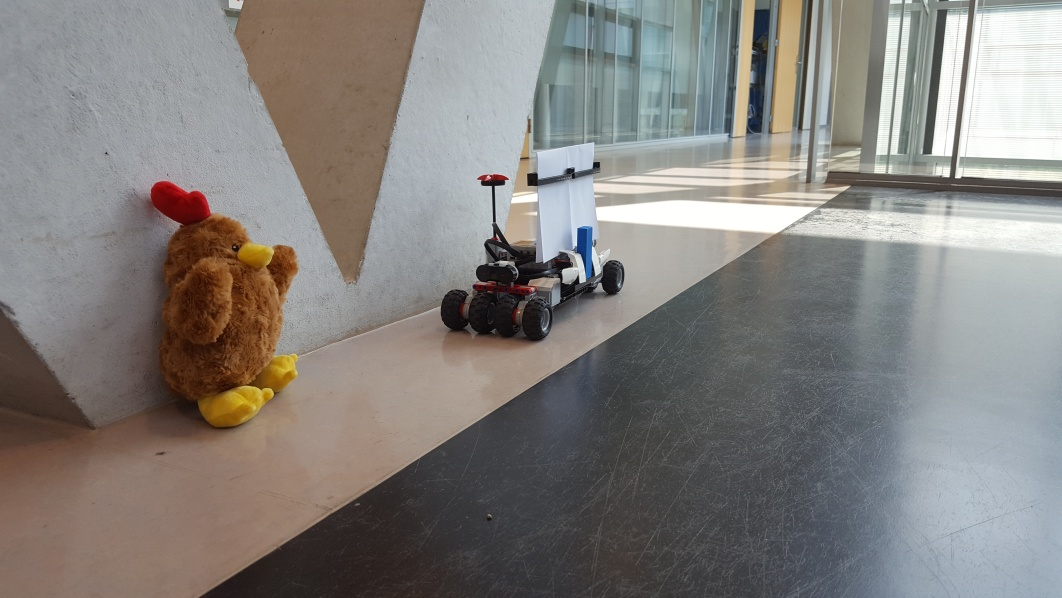beam: (575, 223, 596, 288)
chicken: (145, 178, 302, 429)
